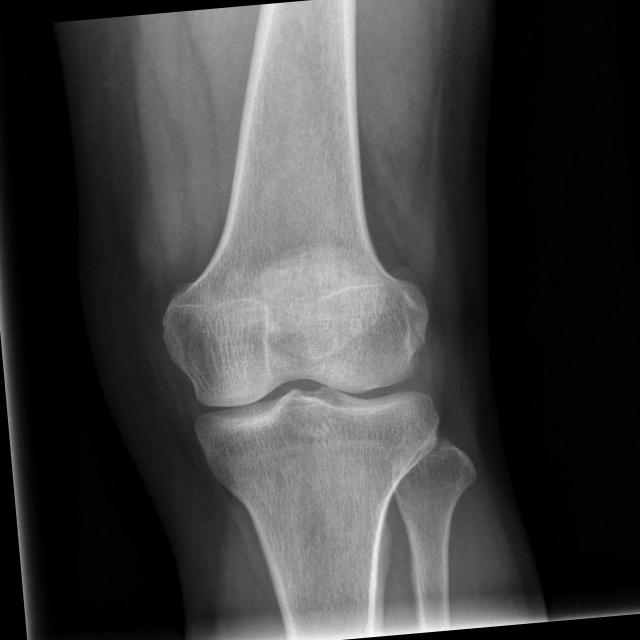Knee: (157, 288, 446, 482)
